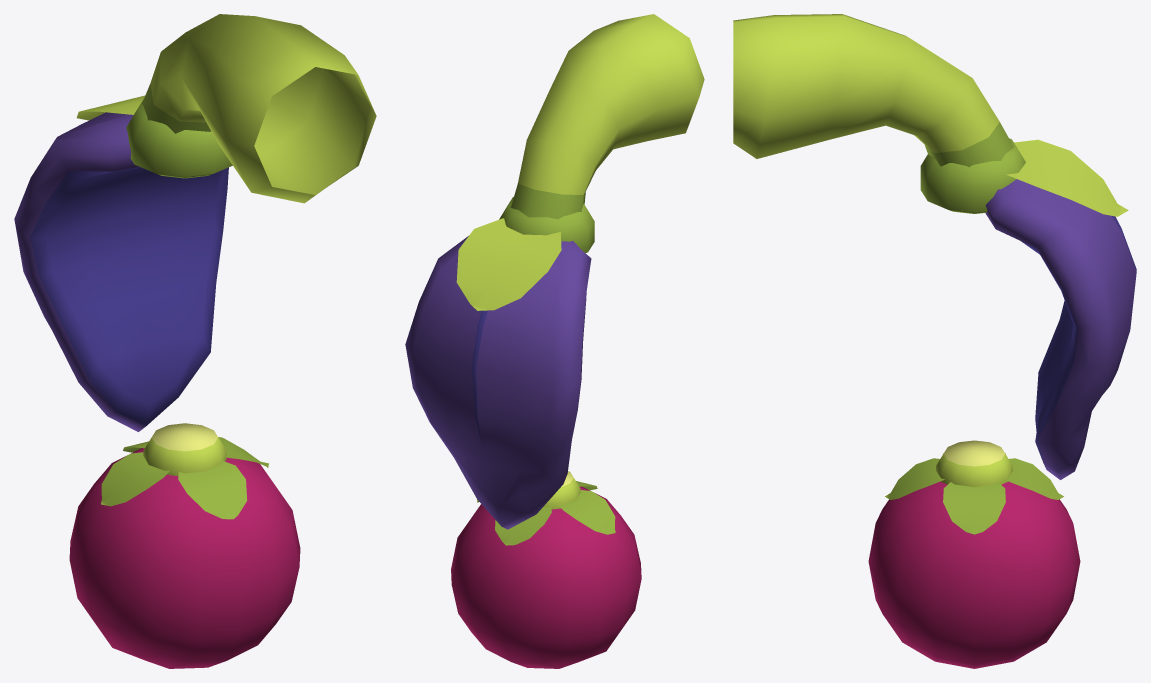
Rendered from mesh_dropPlant.fbx.
3 views of the same model, side by side, from view 1: azimuth 30°, elevation 25°; view 2: azimuth 150°, elevation 25°; view 3: azimuth 270°, elevation 25° (orthographic). The views are drawn at different scales.
Parts seen in each view (by area): view 1: mesh_petalBig_01, mesh_fruit, mesh_stem, mesh_petalSmall_01; view 2: mesh_petalBig_01, mesh_fruit, mesh_stem, mesh_petalSmall_01; view 3: mesh_fruit, mesh_stem, mesh_petalBig_01, mesh_petalSmall_01.
Part boxes in pixels (left/top/right/bottom): mesh_petalBig_01: left=14, top=112, right=228, bottom=431; mesh_fruit: left=69, top=423, right=300, bottom=668; mesh_stem: left=126, top=14, right=376, bottom=203; mesh_petalSmall_01: left=76, top=95, right=145, bottom=120; mesh_petalBig_01: left=405, top=236, right=591, bottom=529; mesh_fruit: left=451, top=471, right=641, bottom=668; mesh_stem: left=499, top=14, right=704, bottom=253; mesh_petalSmall_01: left=456, top=218, right=561, bottom=310; mesh_fruit: left=868, top=440, right=1080, bottom=668; mesh_stem: left=733, top=14, right=1025, bottom=213; mesh_petalBig_01: left=985, top=179, right=1136, bottom=479; mesh_petalSmall_01: left=1006, top=139, right=1128, bottom=216.
Bounding box in the file's own units: 0.926 × 2.93 × 1.67.
Materials: 2 (2 with a texture image).
